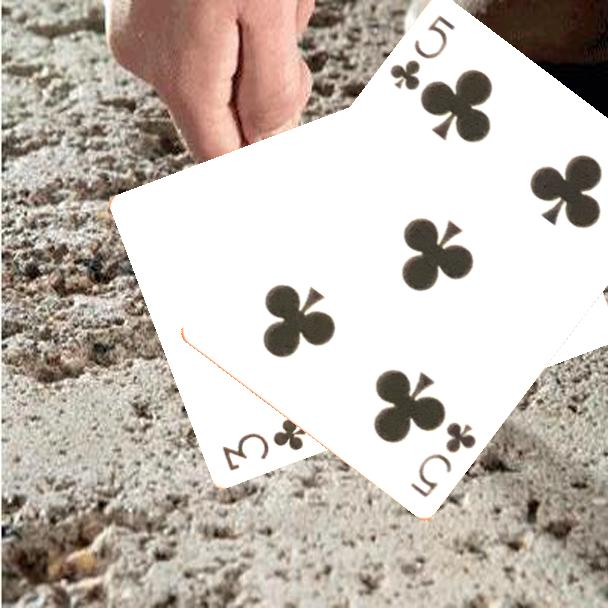c03: (218, 415, 309, 474)
c05: (407, 419, 480, 502), (386, 12, 459, 94)
